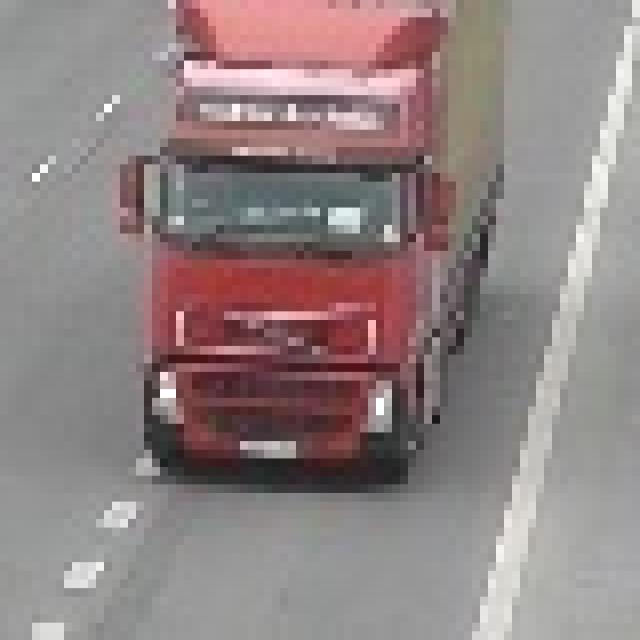TRUCK: (120, 0, 504, 476)
